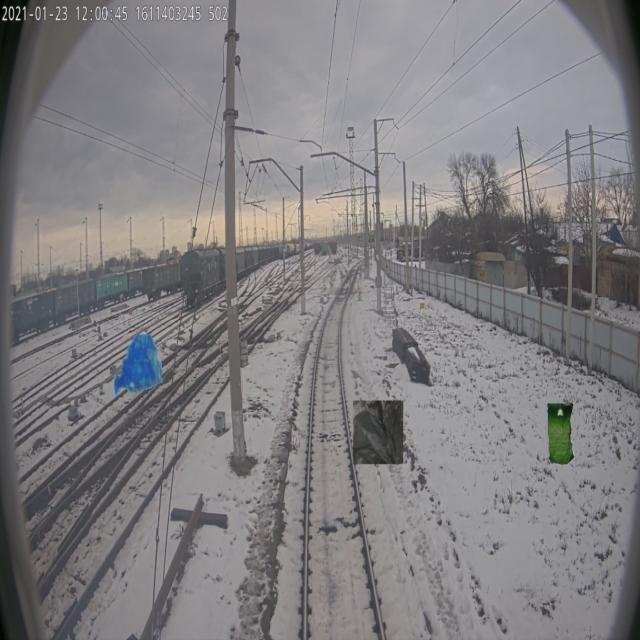plastic bag: (113, 333, 165, 397), (353, 400, 403, 464), (547, 401, 575, 465)
